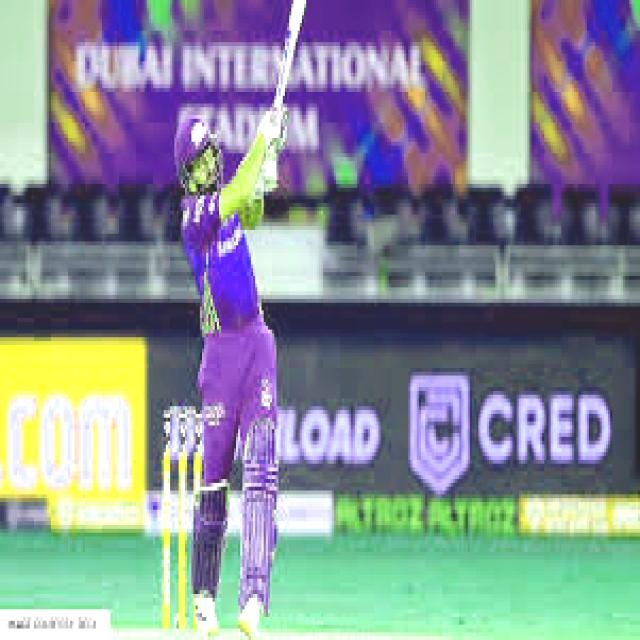toe: (284, 0, 308, 11)
